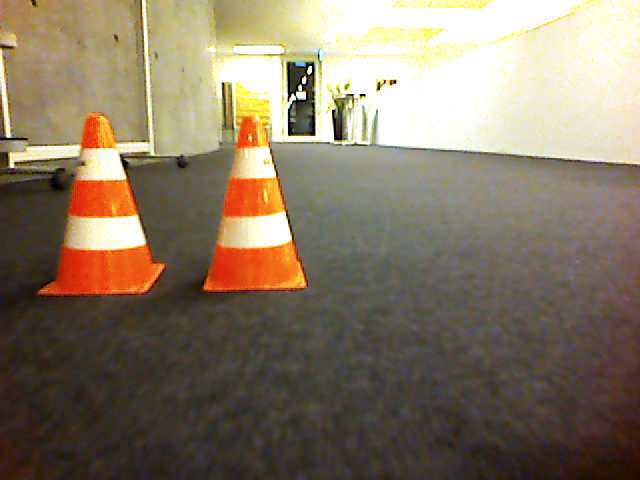orangeconesmall: (36, 112, 166, 298), (201, 116, 310, 294)
